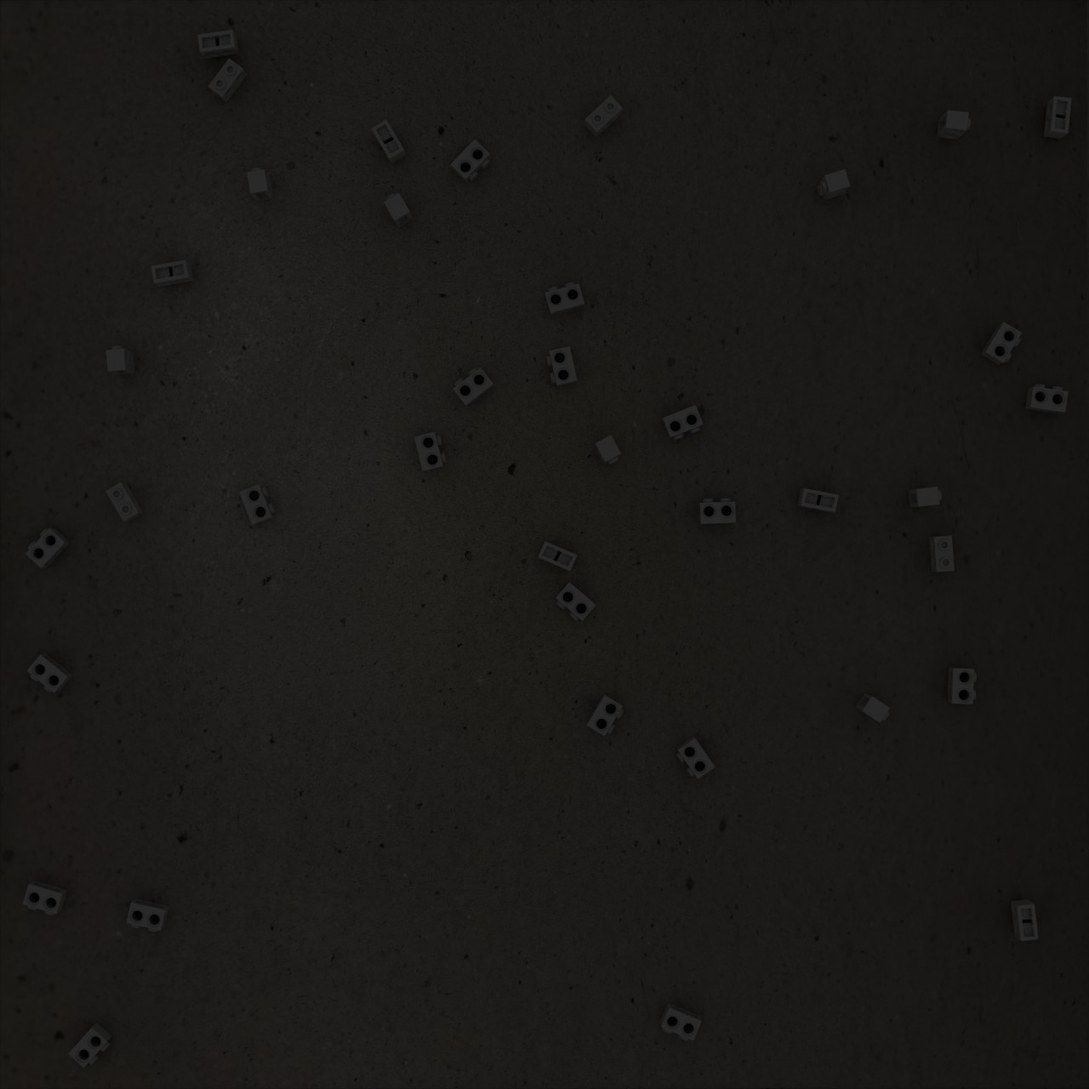lego: (68, 1022, 112, 1068), (27, 653, 73, 693), (450, 139, 491, 183), (25, 528, 70, 568), (981, 322, 1022, 365), (208, 58, 247, 103), (584, 95, 623, 138), (676, 736, 715, 779), (453, 367, 494, 407), (660, 1002, 702, 1041), (22, 880, 68, 915), (555, 582, 596, 621), (586, 694, 624, 736), (371, 119, 406, 164), (105, 482, 144, 522), (126, 898, 170, 932), (239, 484, 275, 525), (661, 405, 703, 440), (545, 282, 585, 316), (1025, 384, 1068, 414), (414, 432, 446, 472), (546, 346, 577, 387), (1010, 899, 1039, 941), (197, 30, 239, 59), (1044, 96, 1072, 139), (538, 541, 577, 571), (151, 260, 194, 287), (947, 667, 977, 704), (817, 169, 851, 200), (797, 488, 839, 513), (855, 693, 890, 723), (937, 110, 971, 140), (384, 193, 413, 228), (698, 498, 736, 524), (929, 536, 954, 572), (247, 168, 274, 201), (106, 346, 135, 375), (594, 435, 621, 465), (908, 487, 942, 508)
